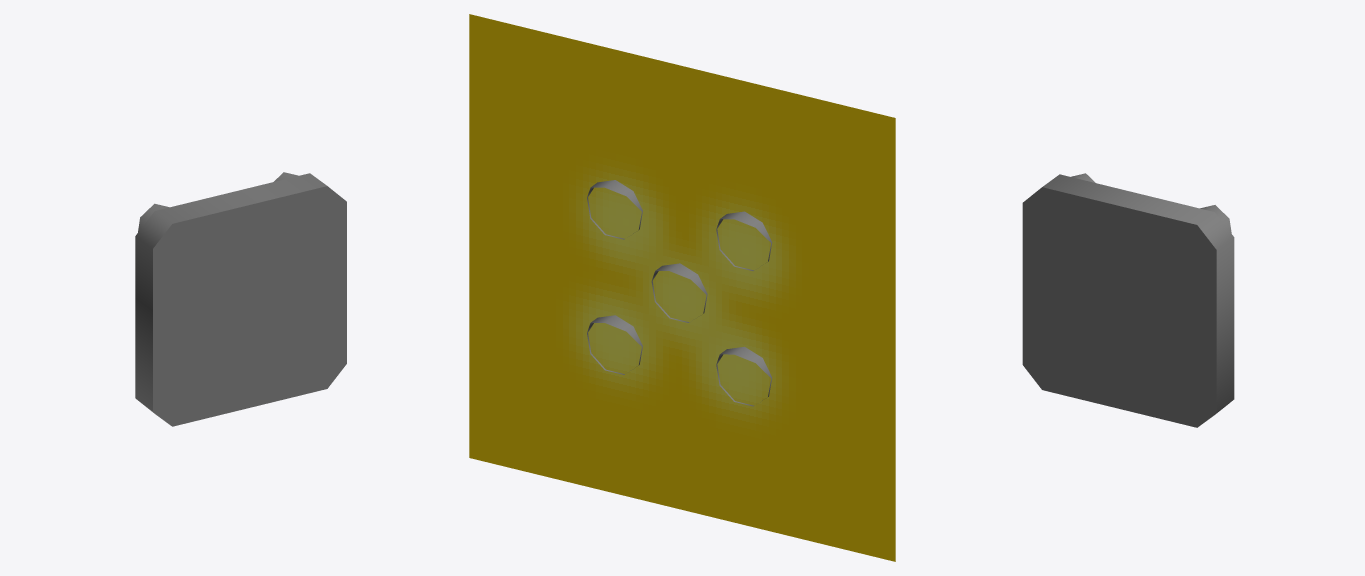
The model's file is SIGNAL_K5.glb.
3 views of the same model, side by side, from view 1: azimuth 30°, elevation 25°; view 2: azimuth 150°, elevation 25°; view 3: azimuth 330°, elevation 25° (orthographic).
Parts seen in each view (by area): view 1: FRAME_ROOT; view 2: FRAME_ROOT; view 3: FRAME_ROOT.
Part boxes in pixels (x1=…): FRAME_ROOT: x1=135, y1=172, x2=346, y2=426; FRAME_ROOT: x1=469, y1=14, x2=895, y2=561; FRAME_ROOT: x1=1022, y1=173, x2=1234, y2=427.
Size of the model in its own units: 4.95 by 4.92 by 0.6187.
Materials: 2 (1 with a texture image).
